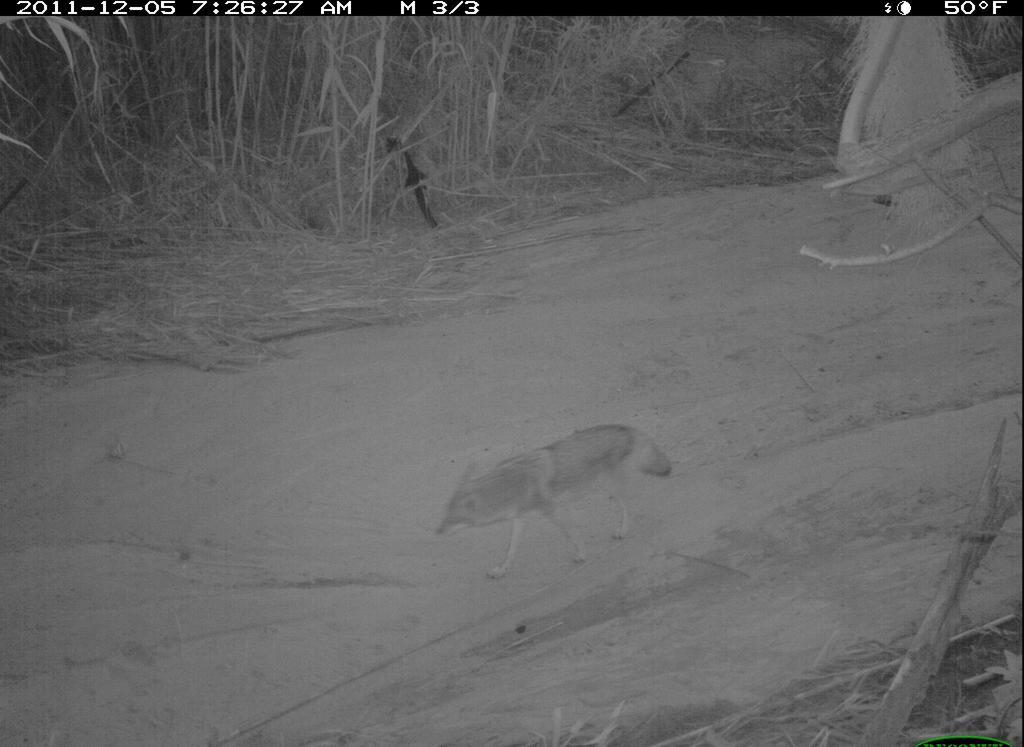coyote: (438, 420, 683, 585)
